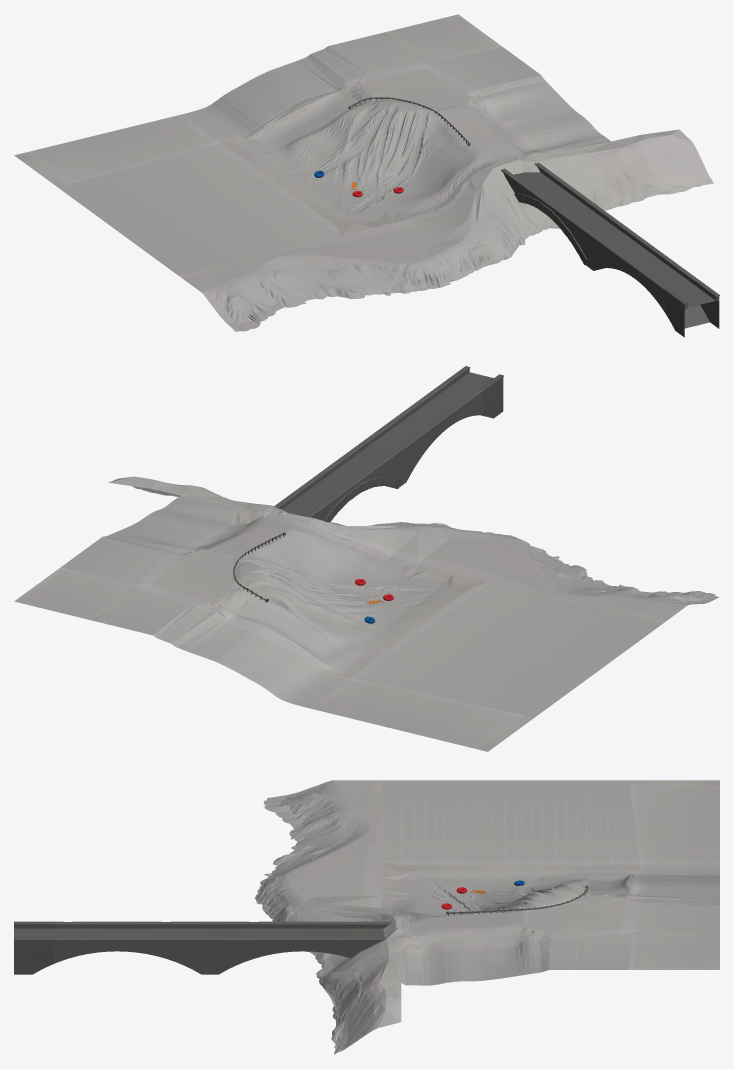
File: Tubing_Landscape.fbx
3 views of the same model, one above another, from view 1: azimuth 30°, elevation 25°; view 2: azimuth 150°, elevation 25°; view 3: azimuth 270°, elevation 25° (orthographic). The views are drawn at different scales.
Visible parts, largest first — view 1: SM_Tubing_Landscape.mo, SM_Tubing_Bridge.mo; view 2: SM_Tubing_Landscape.mo, SM_Tubing_Bridge.mo; view 3: SM_Tubing_Landscape.mo, SM_Tubing_Bridge.mo.
Boxes of the visible parts, x1,y1,x2,y2 form: SM_Tubing_Landscape.mo: (14, 14, 713, 331); SM_Tubing_Bridge.mo: (501, 163, 719, 337); SM_Tubing_Landscape.mo: (14, 476, 719, 751); SM_Tubing_Bridge.mo: (274, 366, 503, 522); SM_Tubing_Landscape.mo: (255, 780, 719, 1054); SM_Tubing_Bridge.mo: (14, 921, 391, 974).
Size of the model in its own units: 9858 by 951 by 11408.
